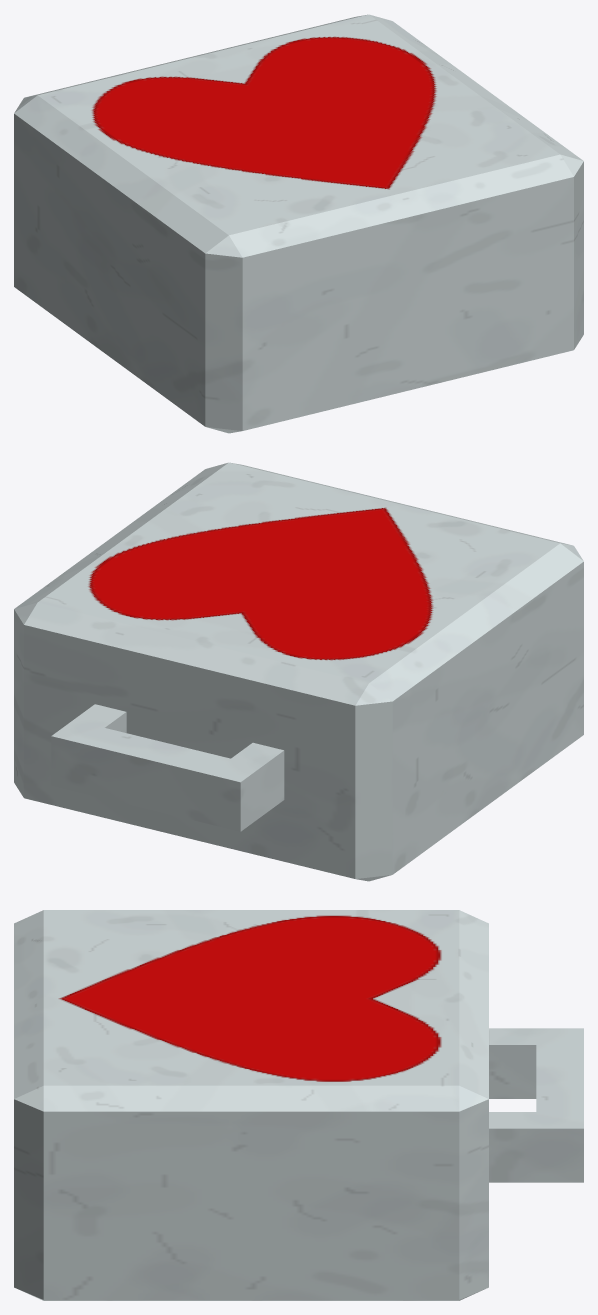
The model's file is HealthPack 1.fbx.
The picture shows the model from 3 angles, top to bottom: view 1: azimuth 30°, elevation 25°; view 2: azimuth 150°, elevation 25°; view 3: azimuth 270°, elevation 25°; orthographic projection. The views are drawn at different scales.
Visible parts, largest first — view 1: Health Pack; view 2: Health Pack; view 3: Health Pack.
Part boxes in pixels (x1=…): Health Pack: x1=14, y1=14, x2=583, y2=433; Health Pack: x1=14, y1=462, x2=583, y2=881; Health Pack: x1=14, y1=910, x2=583, y2=1300.
Size of the model in its own units: 100 by 50 by 120.
1 material, 1 textured.
